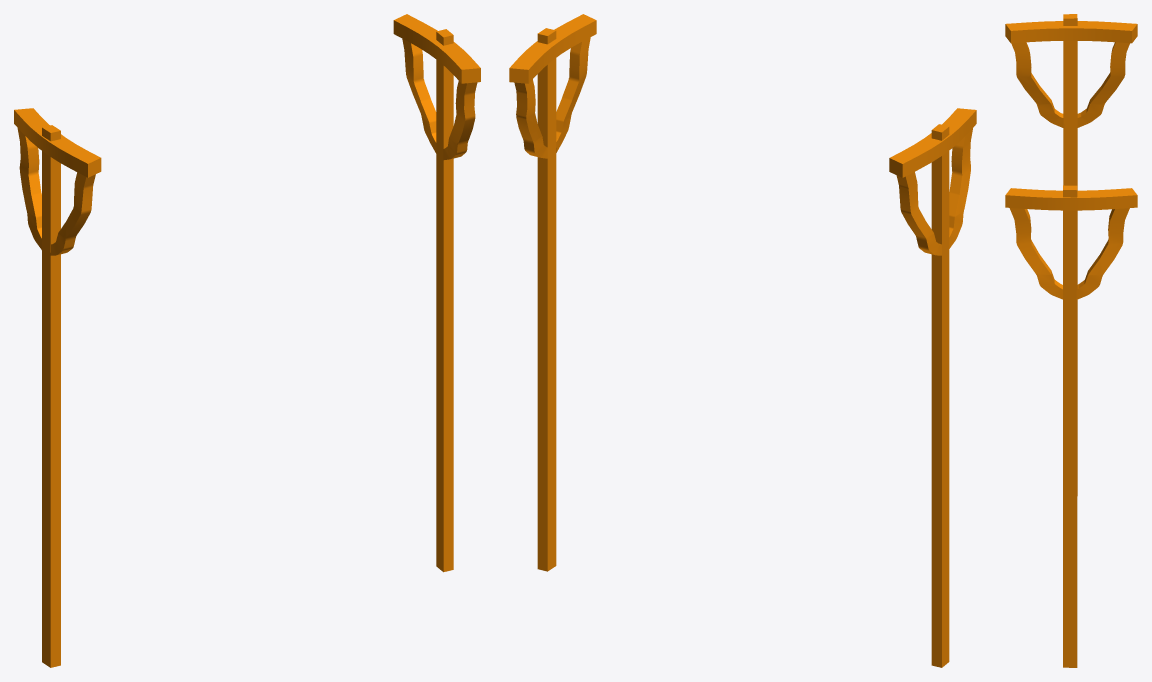
The model's file is bagana.glb.
3 views of the same model, side by side, from view 1: azimuth 30°, elevation 25°; view 2: azimuth 150°, elevation 25°; view 3: azimuth 270°, elevation 25° (orthographic). The views are drawn at different scales.
Visible parts, largest first — view 1: pasted__bagana, pasted__bagana1; view 2: pasted__bagana1, pasted__bagana; view 3: pasted__bagana1, pasted__bagana.
Part boxes in pixels (left/top/right/bottom): pasted__bagana: left=14, top=108, right=101, bottom=667; pasted__bagana1: left=393, top=14, right=480, bottom=572; pasted__bagana1: left=509, top=14, right=596, bottom=571; pasted__bagana: left=889, top=108, right=976, bottom=667; pasted__bagana1: left=1005, top=185, right=1137, bottom=667; pasted__bagana: left=1005, top=14, right=1137, bottom=495.
Size of the model in its own units: 8.96 by 11.27 by 2.82.
